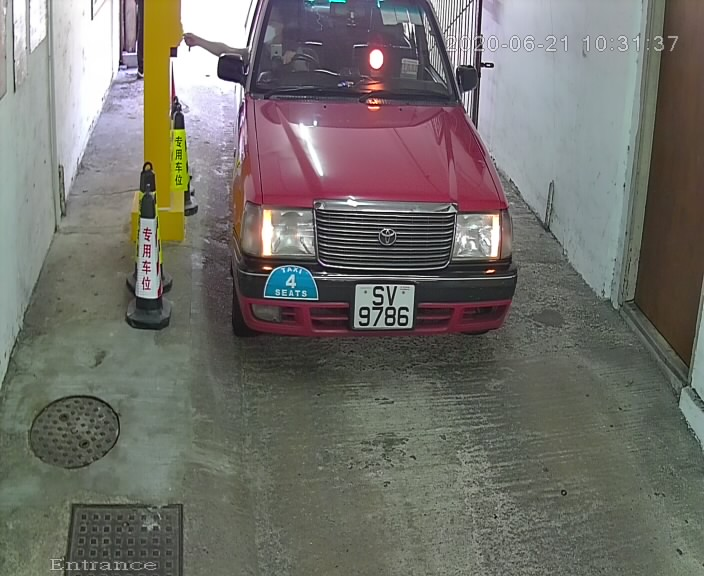taxi: (204, 1, 536, 367)
taxi_mark: (251, 253, 326, 310)
